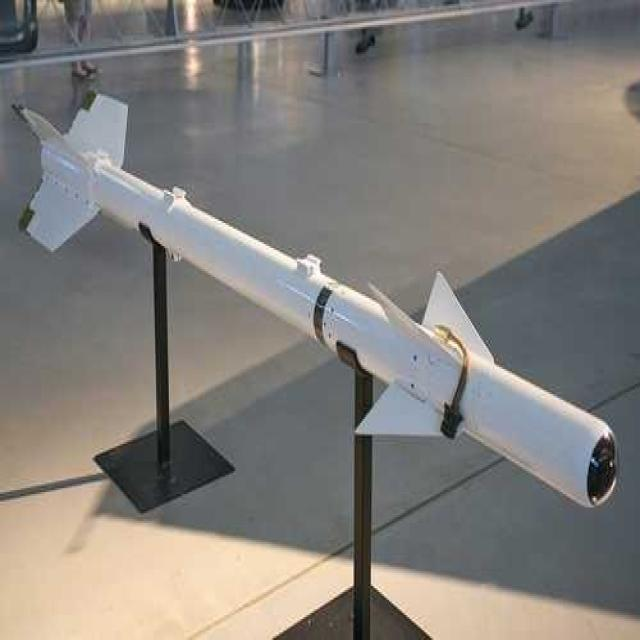missile: (9, 82, 620, 512)
